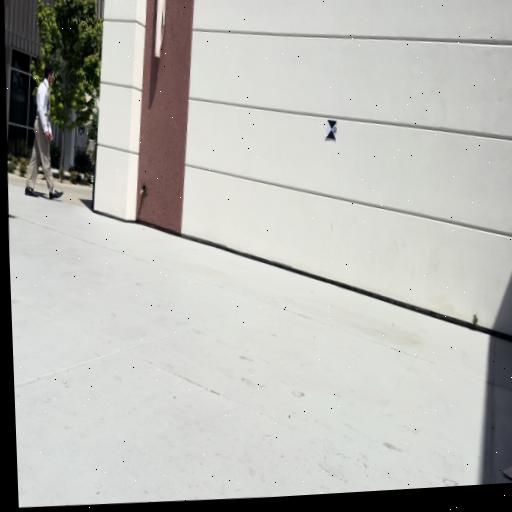target0: (325, 119, 337, 140)
